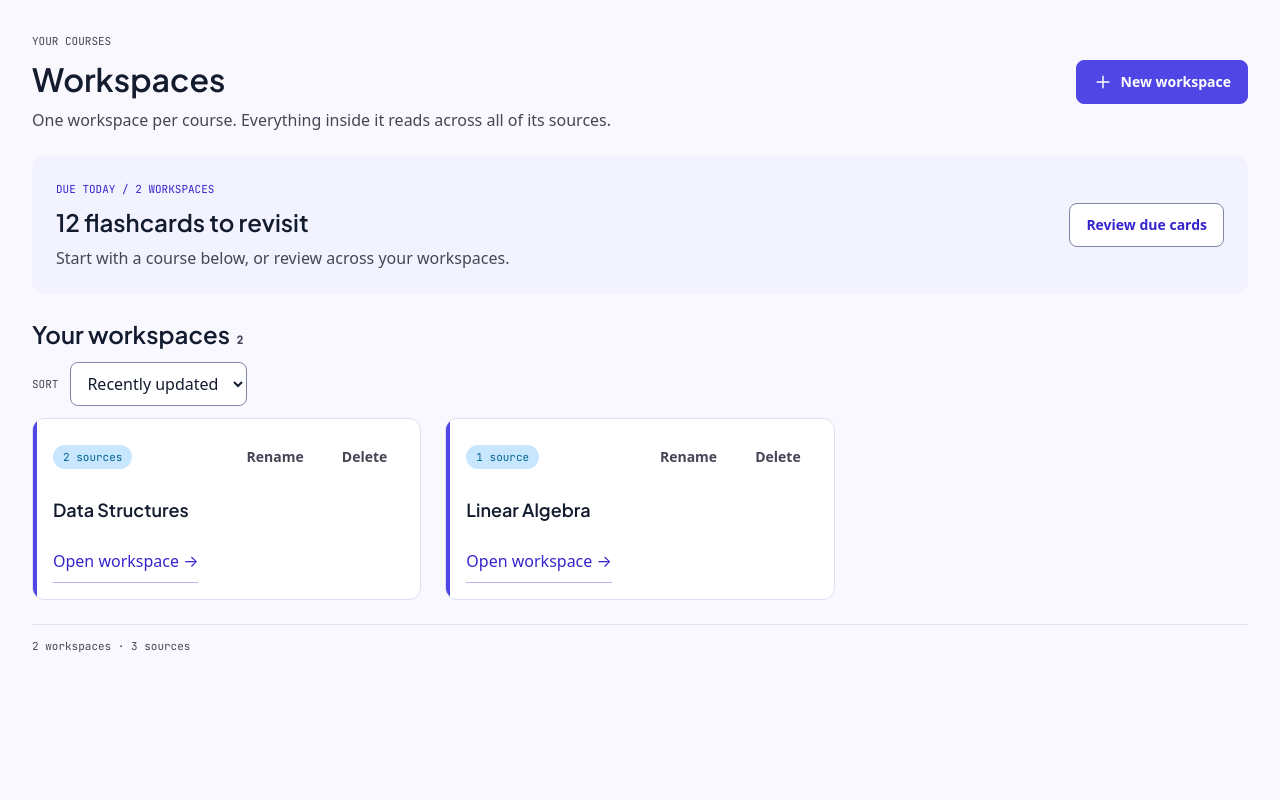
Scenario: the workspace list › creates a workspace with its course code and exam date
The image size is (1280, 800).
// The create form is behind the header's one primary action.
Click the button "New workspace".
click(1162, 82)  # box [1076,60,1248,104]
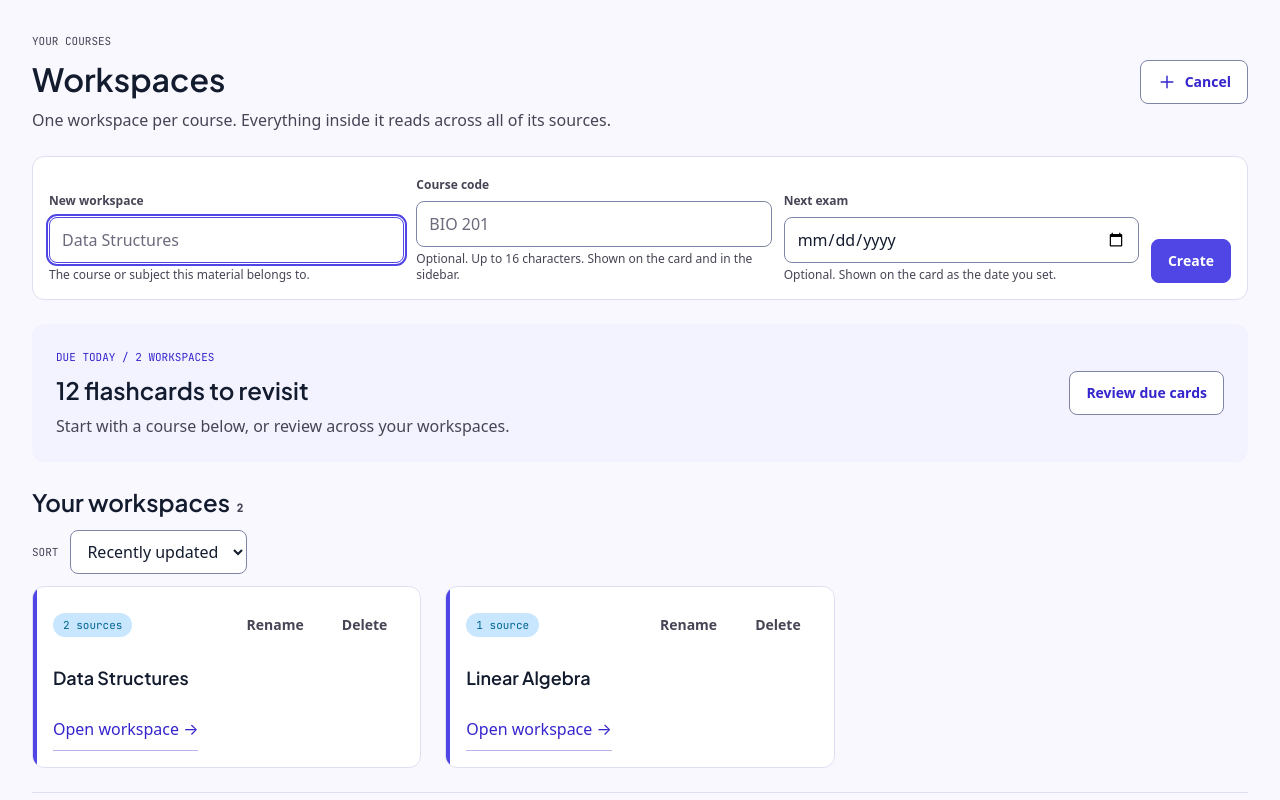
Type "Algorithms" into the field labelled "New workspace".
click(227, 240); type("Algorithms")  # box [49,217,404,263]
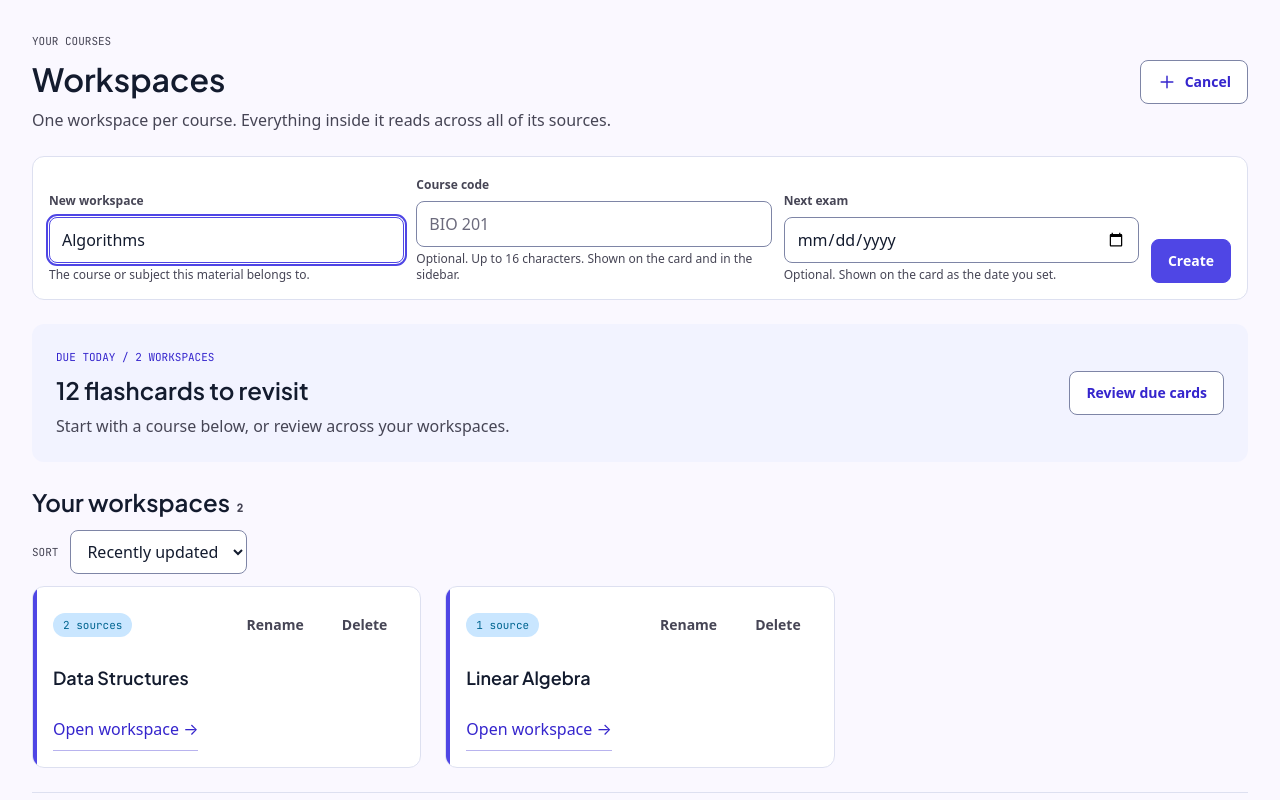
Type "CS 401" into the field labelled "Course code".
click(594, 224); type("CS 401")  # box [416,201,772,247]
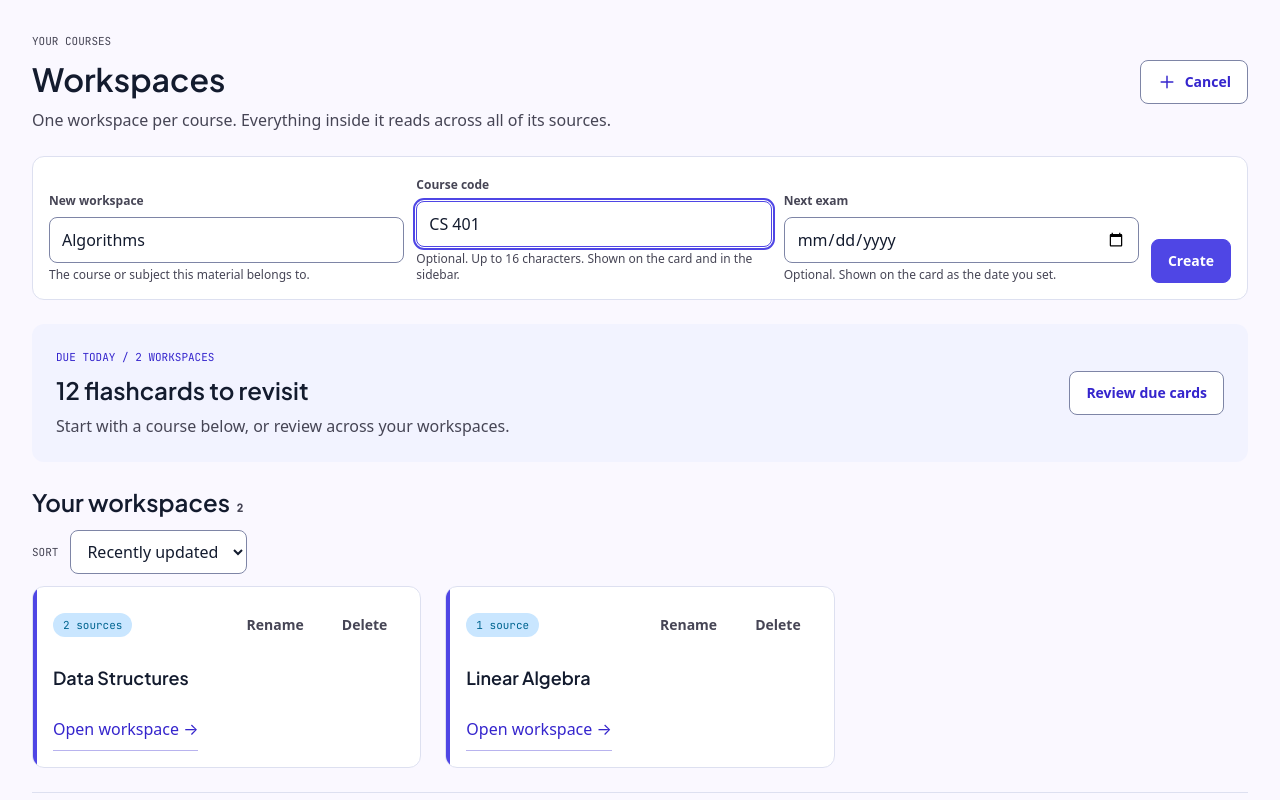
Type "2026-11-05" into the date field labelled "Next exam".
click(961, 240); type("2026-11-05")  # box [784,217,1139,263]
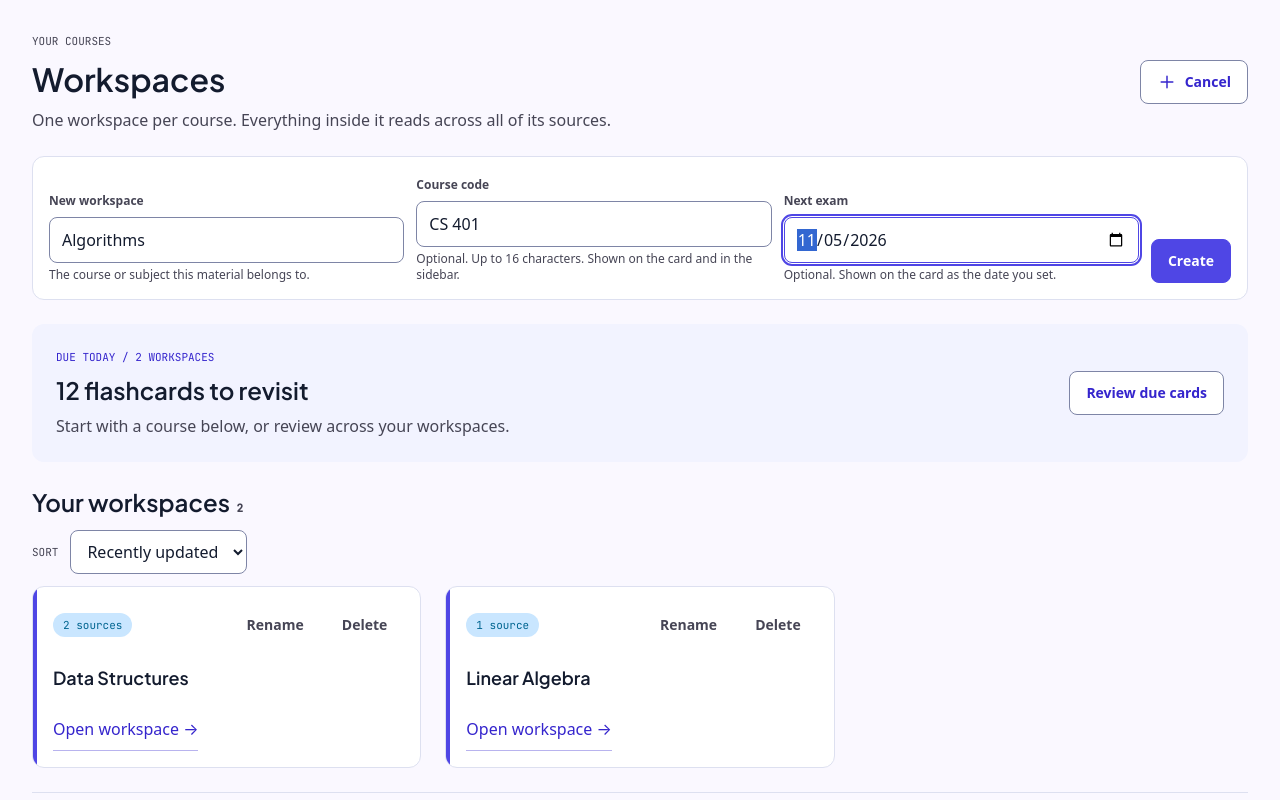
Click the button "Create".
click(1191, 261)  # box [1151,239,1231,283]
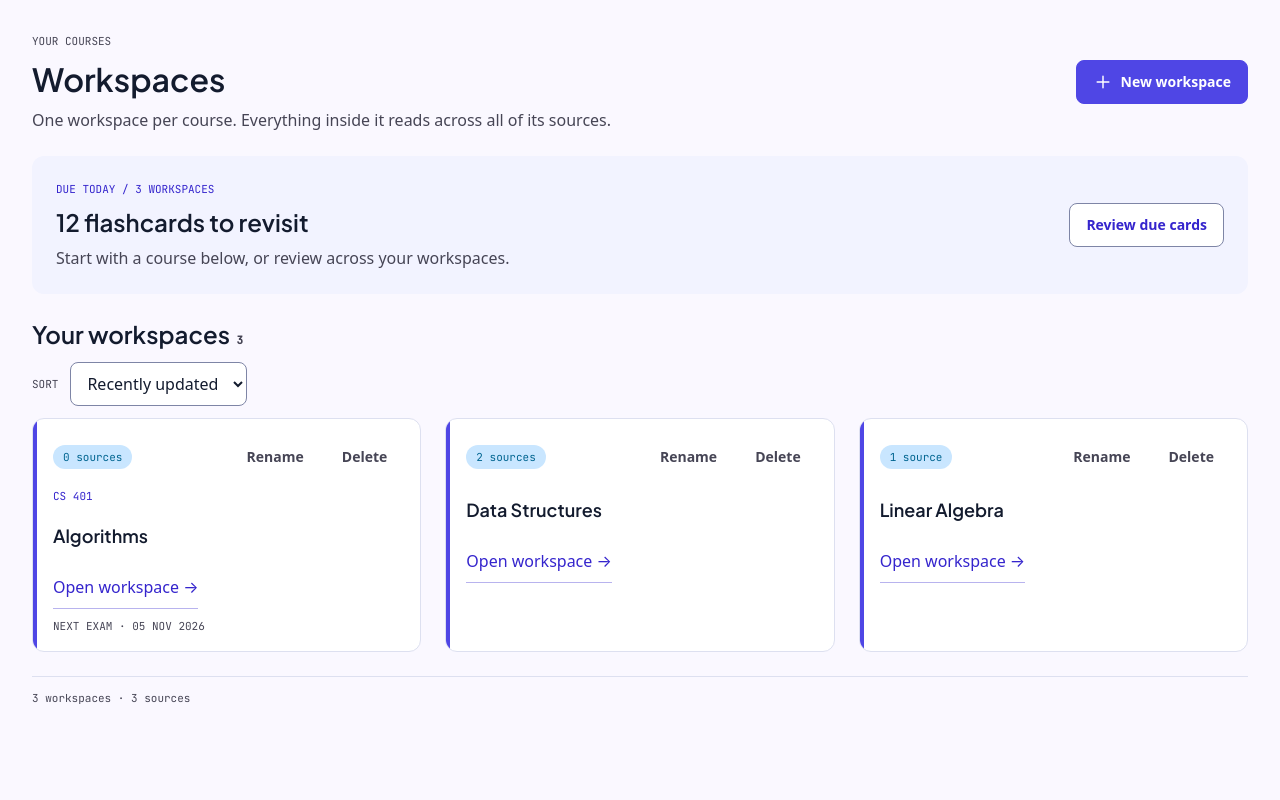
Expected: the link "Algorithms" is shown, [53,524,148,546]
Expected: the text "CS 401" is shown, [53,489,93,503]
